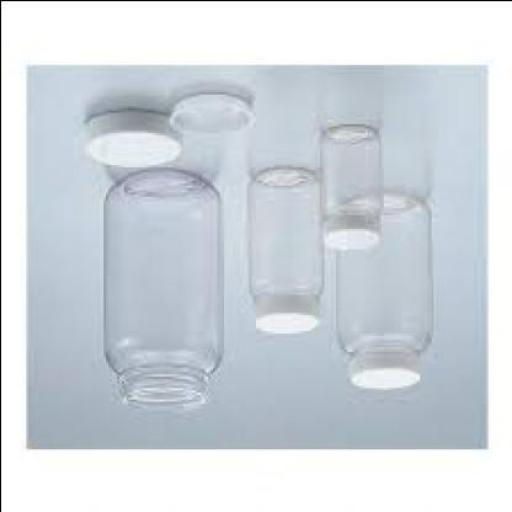glass: (98, 173, 216, 407), (332, 196, 428, 359), (246, 168, 319, 302), (316, 122, 380, 221)
plastic: (78, 111, 180, 167), (164, 94, 246, 136), (345, 346, 417, 389), (250, 296, 314, 338), (322, 221, 376, 253)
